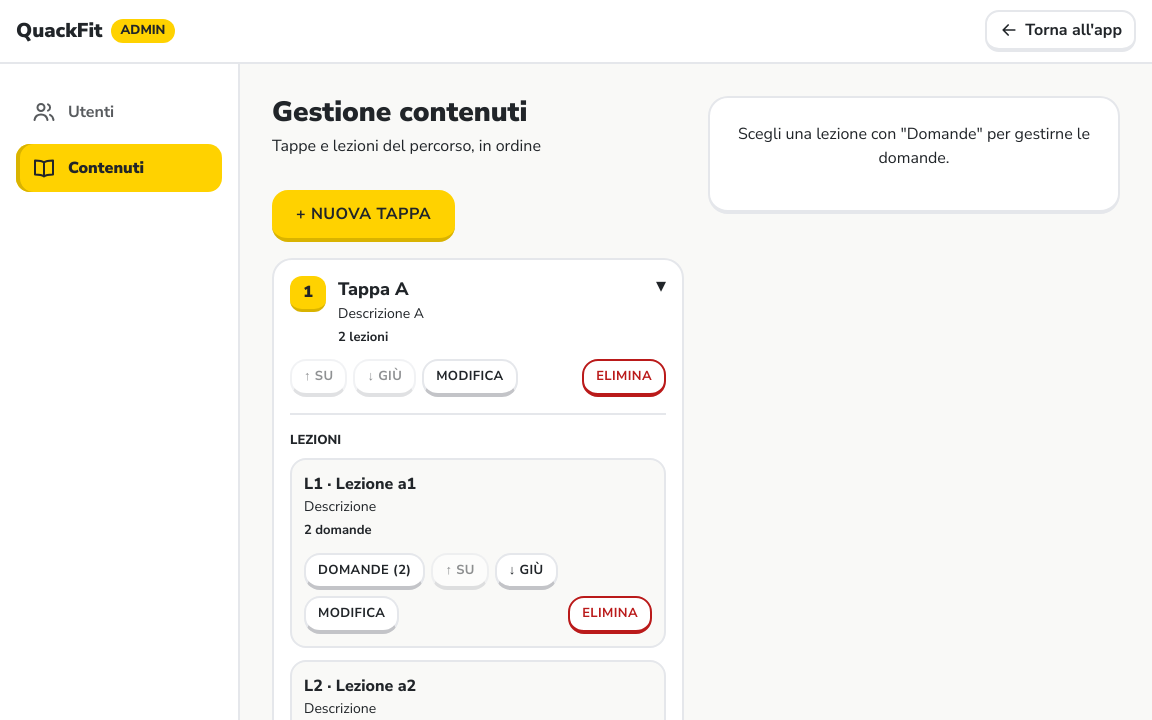
Scenario: cancellazione › Annulla non chiama il backend
Click the button with aria-label "Elimina la tappa «Tappa A»" at (624, 378), box [582, 359, 666, 397]
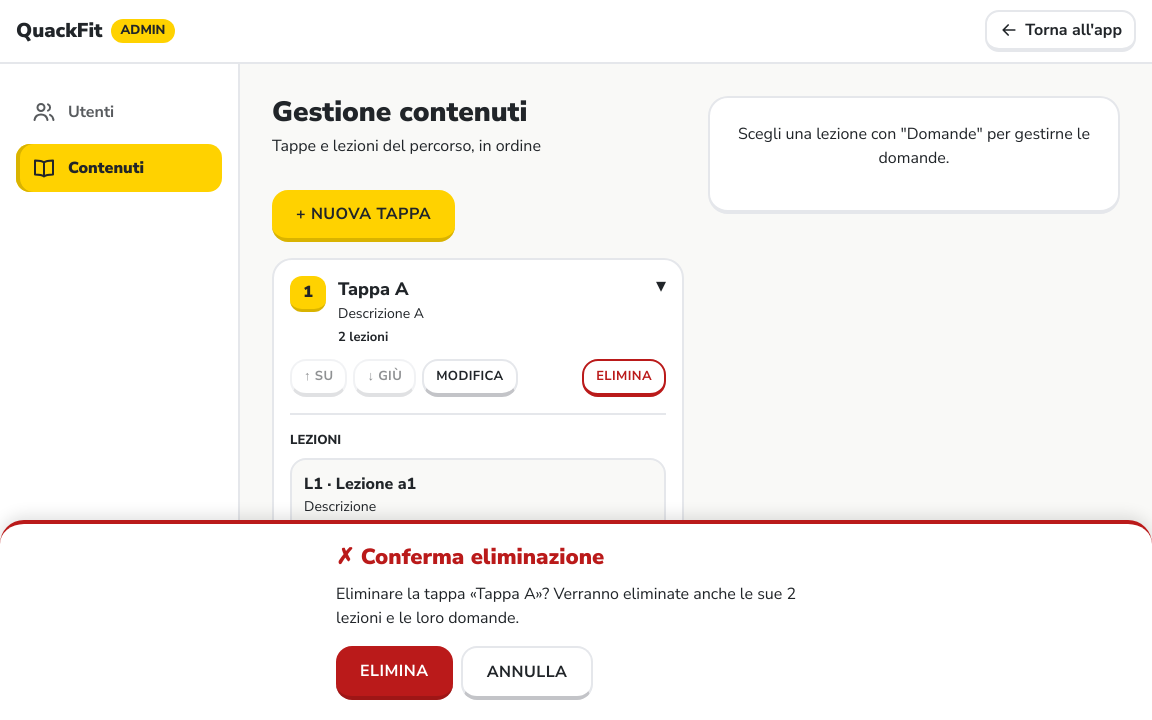
Expected: the dialog shows "Eliminare la tappa «Tappa A»? Verranno eliminate anche le sue 2 lezioni e le loro domande.", [336, 583, 796, 629]
Click the button "Annulla" at (527, 673), box [461, 646, 593, 700]
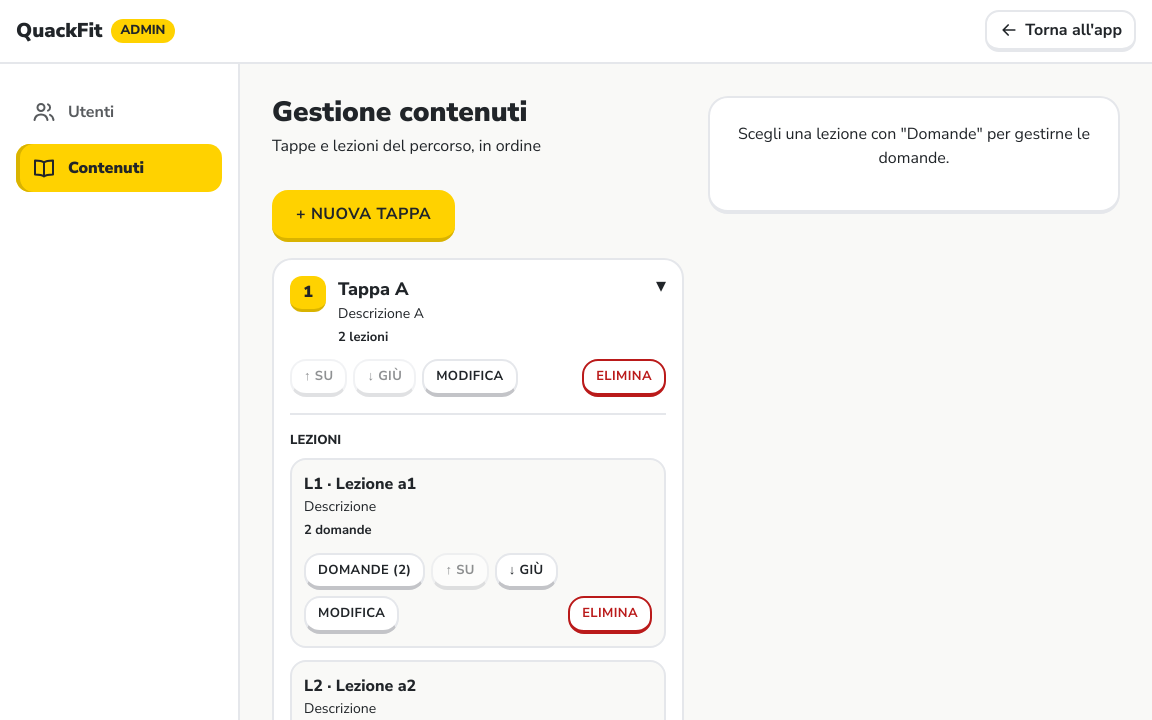
Expected: the dialog is gone
